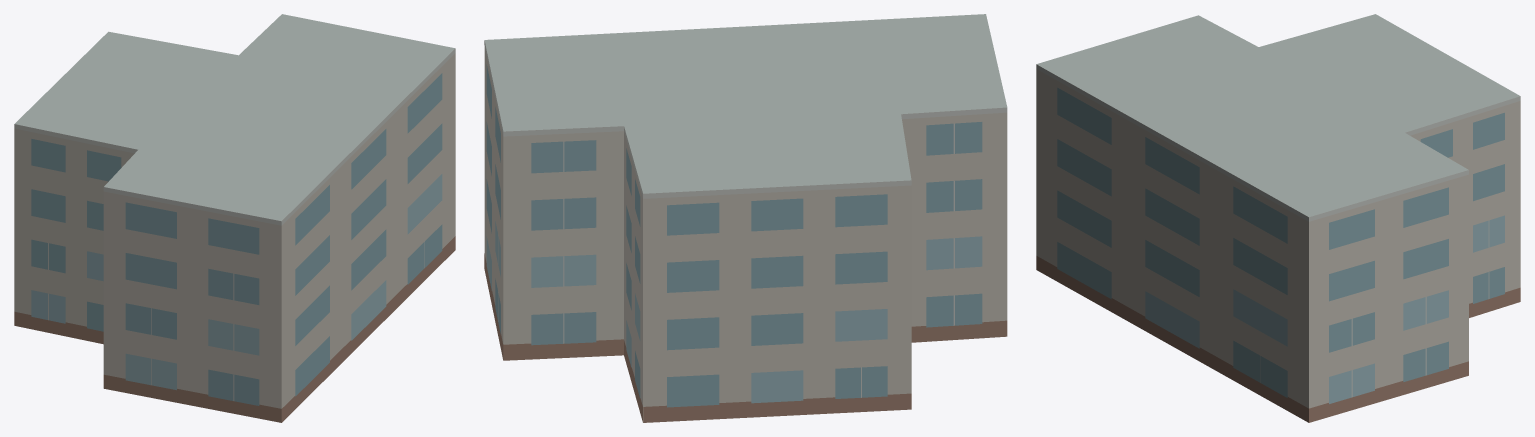
File: survey-upis-32529078.glb
3 renders of one model, left to right at view 1: azimuth 30°, elevation 25°; view 2: azimuth 150°, elevation 25°; view 3: azimuth 270°, elevation 25°, orthographic. The views are drawn at different scales.
Parts seen in each view (by area): view 1: survey-upis-32529078.tmp; view 2: survey-upis-32529078.tmp; view 3: survey-upis-32529078.tmp.
Part boxes in pixels (left/top/right/bottom): survey-upis-32529078.tmp: left=14, top=14, right=455, bottom=422; survey-upis-32529078.tmp: left=484, top=14, right=1007, bottom=422; survey-upis-32529078.tmp: left=1036, top=14, right=1520, bottom=422.
Size of the model in its own units: 23.33 by 11 by 23.5.
